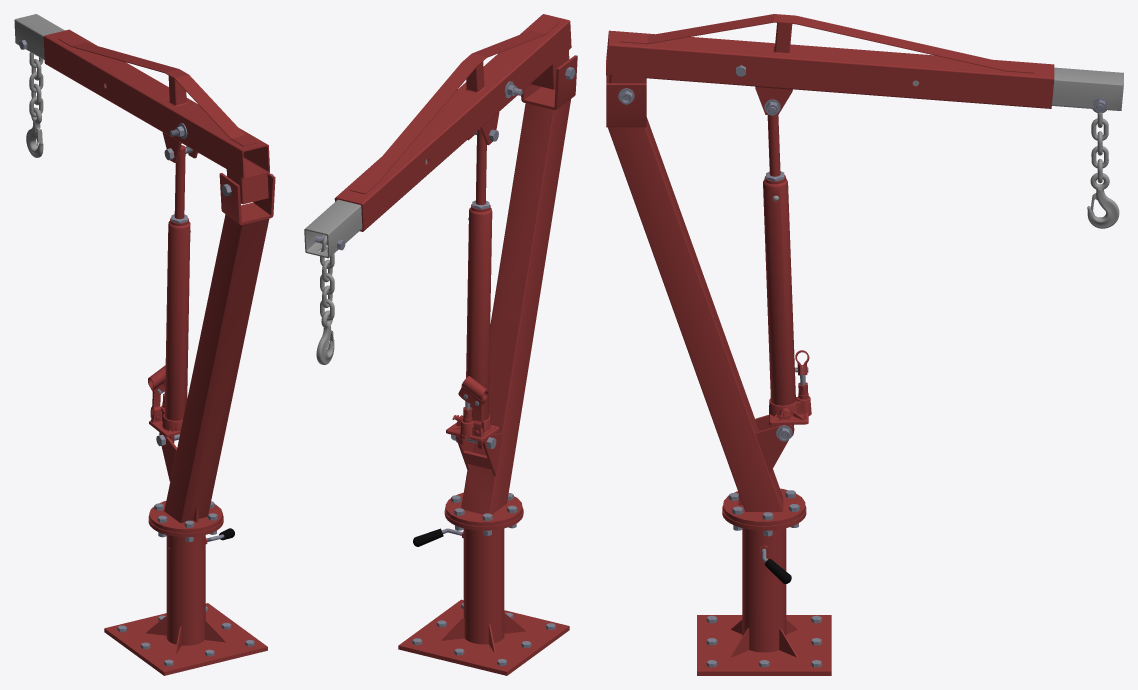
File: PistonCrane.fbx
3 views of the same model, side by side, from view 1: azimuth 30°, elevation 25°; view 2: azimuth 150°, elevation 25°; view 3: azimuth 270°, elevation 25° (orthographic). The views are drawn at different scales.
Parts seen in each view (by area): view 1: CraneBase, CraneArm, PistonBase, Hook, Piston; view 2: CraneBase, CraneArm, PistonBase, Hook, Piston; view 3: CraneBase, CraneArm, PistonBase, Hook.
Part boxes in pixels (bbox=[...]): CraneBase: bbox=[104, 173, 275, 675]; CraneArm: bbox=[14, 14, 269, 204]; PistonBase: bbox=[148, 214, 190, 442]; Hook: bbox=[26, 52, 43, 157]; Piston: bbox=[174, 145, 185, 219]; CraneBase: bbox=[398, 55, 577, 675]; CraneArm: bbox=[304, 14, 571, 258]; PistonBase: bbox=[446, 200, 499, 450]; Hook: bbox=[316, 235, 334, 364]; Piston: bbox=[475, 129, 486, 204]; CraneBase: bbox=[606, 75, 831, 675]; CraneArm: bbox=[606, 14, 1123, 115]; PistonBase: bbox=[763, 171, 811, 437]; Hook: bbox=[1087, 109, 1119, 228].
Bounding box in the file's own units: 28.84 × 141 × 105.
